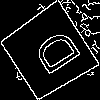D: (24, 26, 83, 83)
